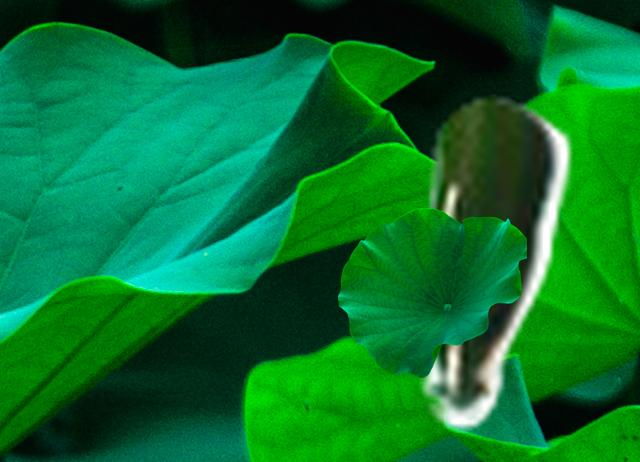green_chili: (412, 92, 574, 431)
